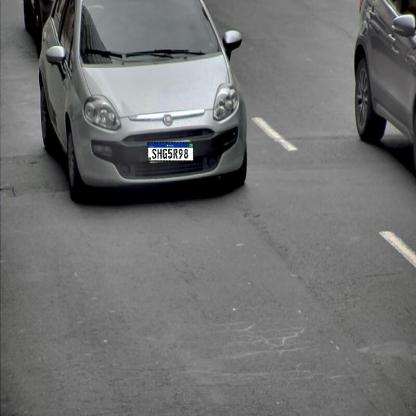PlacaM: (147, 142, 194, 162)
